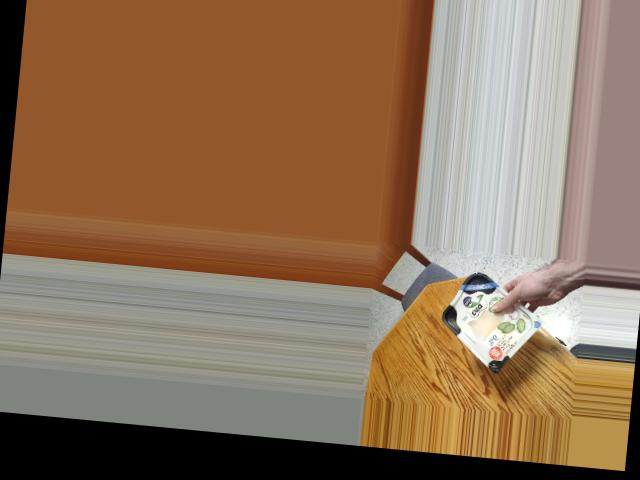cheese: (437, 267, 530, 367)
